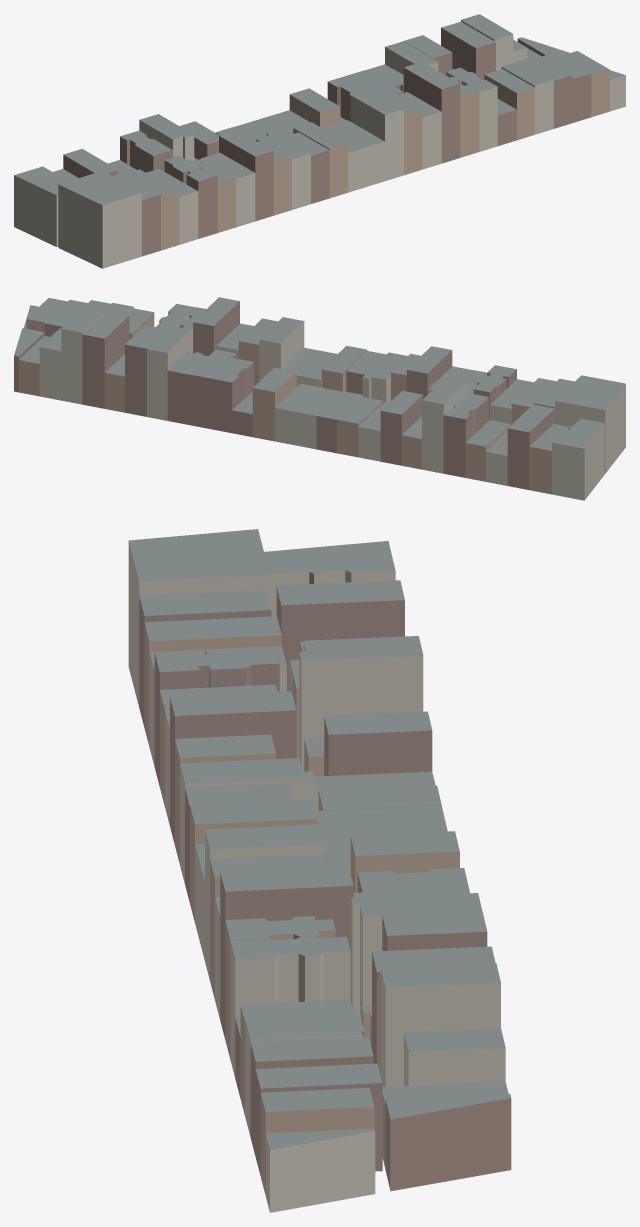
3 views of the same model, one above another, from view 1: azimuth 30°, elevation 25°; view 2: azimuth 150°, elevation 25°; view 3: azimuth 270°, elevation 25° (orthographic). The views are drawn at different scales.
Parts seen in each view (by area): view 1: C7; view 2: C7; view 3: C7.
Boxes of the visible parts, <box> form: C7: <box>14,14,625,268</box>; C7: <box>14,297,625,500</box>; C7: <box>128,529,511,1212</box>.
Bounding box in the file's own units: 222 × 27 × 63.04.
